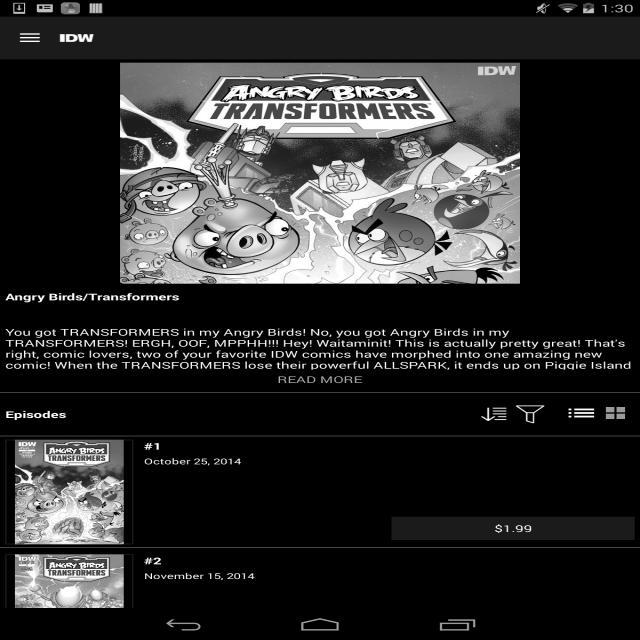Button: (392, 517, 634, 540)
ImageButton: (0, 30, 60, 46)
ImageView: (0, 59, 640, 608), (5, 62, 635, 284), (5, 440, 134, 544), (5, 554, 134, 640), (511, 402, 549, 427), (477, 402, 511, 427), (60, 27, 94, 49)
RadioButton: (564, 402, 598, 424), (598, 402, 632, 424)
TextView: (5, 326, 635, 370), (5, 290, 635, 303), (5, 306, 635, 319), (144, 554, 635, 567), (144, 440, 635, 452), (144, 570, 635, 582), (144, 456, 635, 466), (277, 373, 362, 386), (5, 408, 66, 421)
